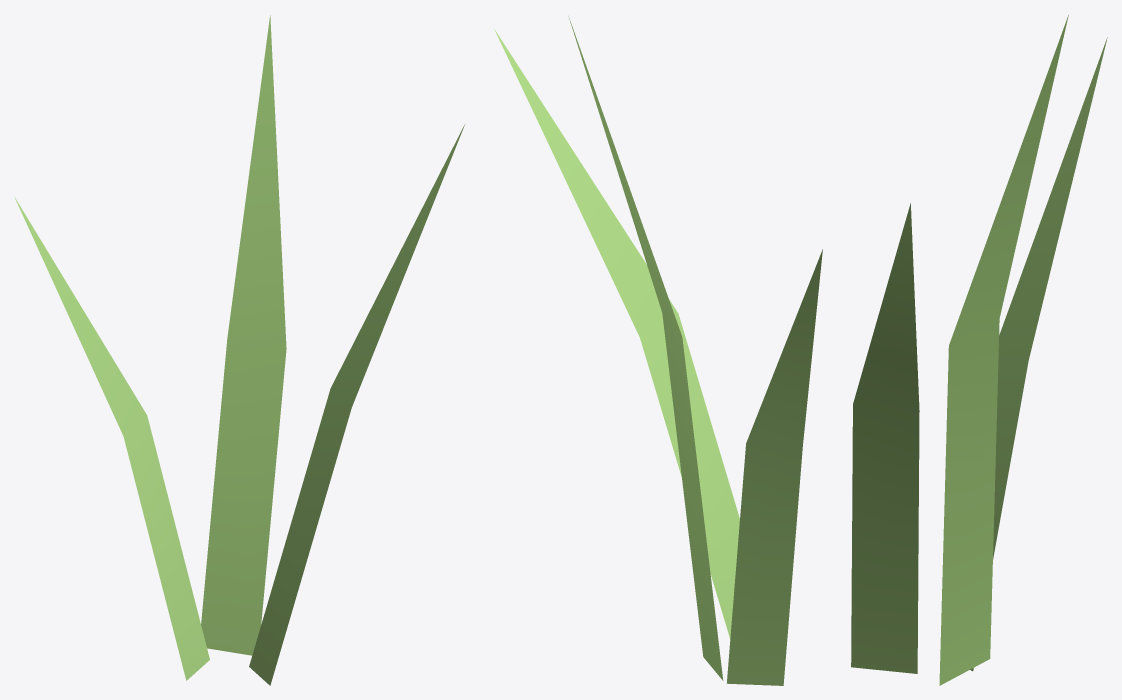
The model's file is Grass_b_TwoS_02.fbx.
3 renders of one model, left to right at view 1: azimuth 30°, elevation 25°; view 2: azimuth 150°, elevation 25°; view 3: azimuth 270°, elevation 25°, orthographic. The views are drawn at different scales.
Visible parts, largest first — view 1: Grass_b_TwoS_02; view 2: Grass_b_TwoS_02; view 3: Grass_b_TwoS_02.
Boxes of the visible parts, x1,y1,x2,y2 form: Grass_b_TwoS_02: (14, 15, 464, 685); Grass_b_TwoS_02: (494, 16, 822, 685); Grass_b_TwoS_02: (851, 15, 1107, 685).
Bounding box in the file's own units: 28.31 × 43.48 × 14.06.
